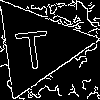T: (13, 21, 52, 71)
